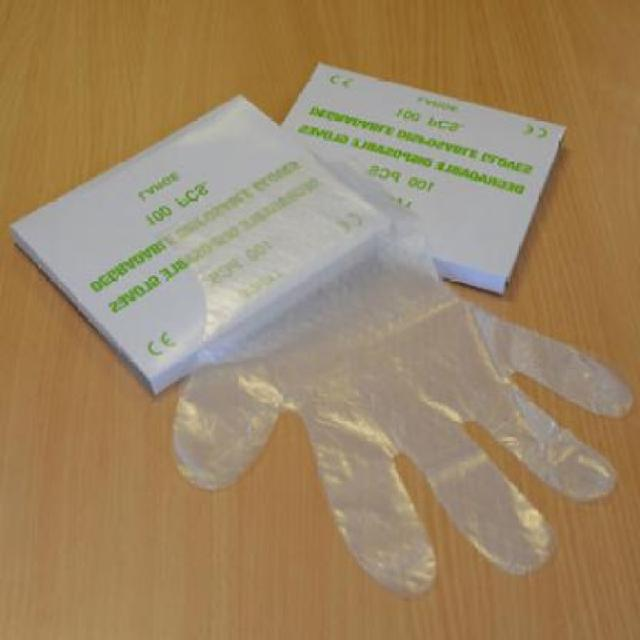glove: (98, 151, 634, 600)
